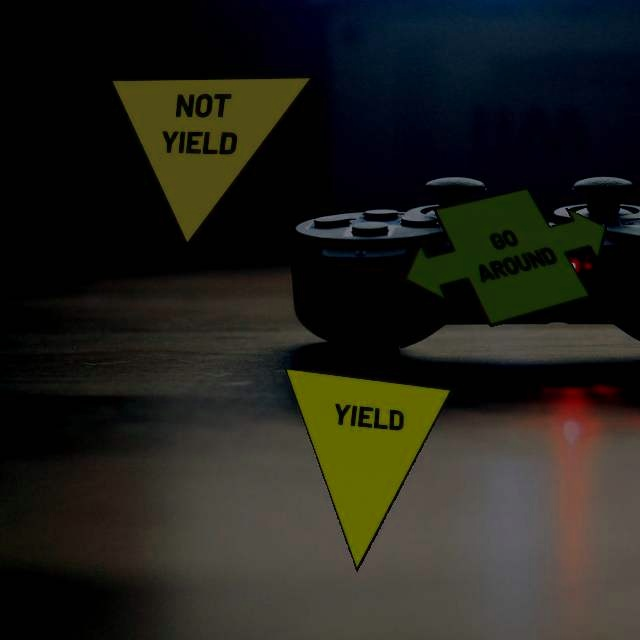GO_AROUND: (403, 187, 607, 327)
NOT_YIELD: (110, 76, 314, 245)
YIELD: (284, 368, 452, 572)
